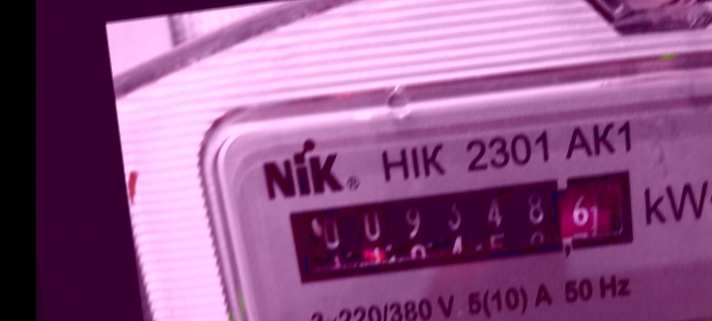0: (358, 205, 383, 243), (318, 212, 342, 250)
3: (439, 196, 465, 230)
4: (479, 191, 505, 230)
6: (567, 189, 593, 226)
8: (522, 187, 546, 224)
9: (401, 201, 423, 237)
screen: (263, 151, 658, 301)
